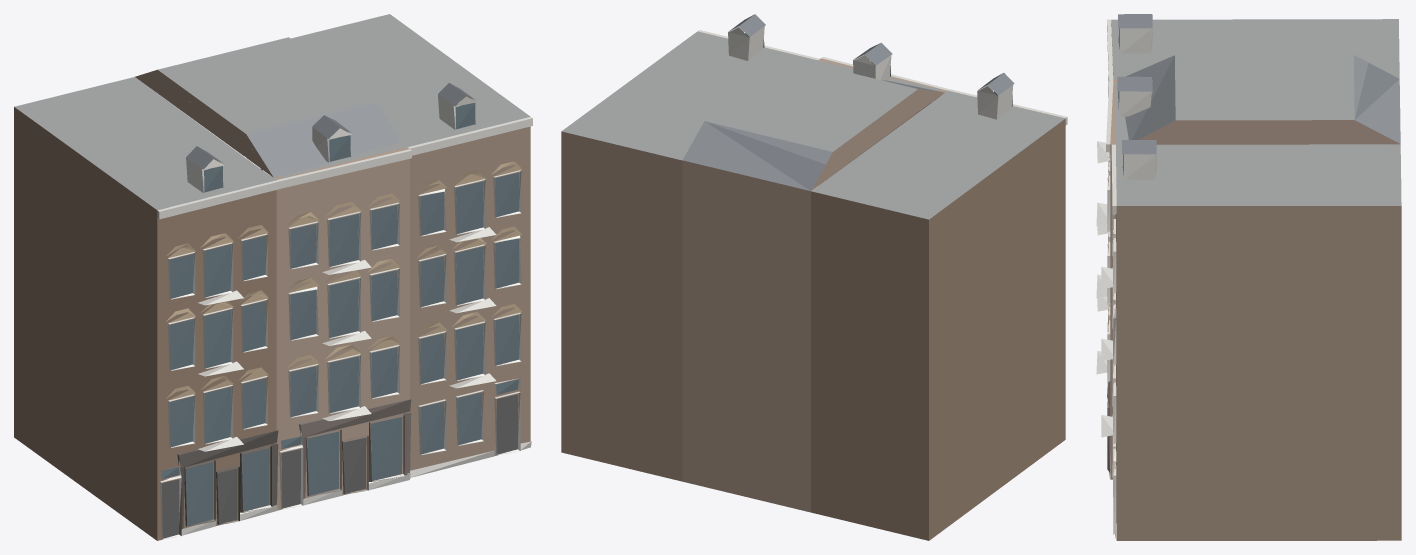
The model's file is chunk-face-helmers-23-57-r1.lod2.glb.
3 renders of one model, left to right at view 1: azimuth 30°, elevation 25°; view 2: azimuth 150°, elevation 25°; view 3: azimuth 270°, elevation 25°, orthographic. The views are drawn at different scales.
Visible parts, largest first — view 1: lod2; view 2: lod2; view 3: lod2.
Part boxes in pixels (x1=…): lod2: x1=14, y1=14, x2=532, y2=540; lod2: x1=561, y1=14, x2=1067, y2=540; lod2: x1=1096, y1=14, x2=1401, y2=540.
Size of the model in its own units: 18.13 by 16.78 by 12.52.
